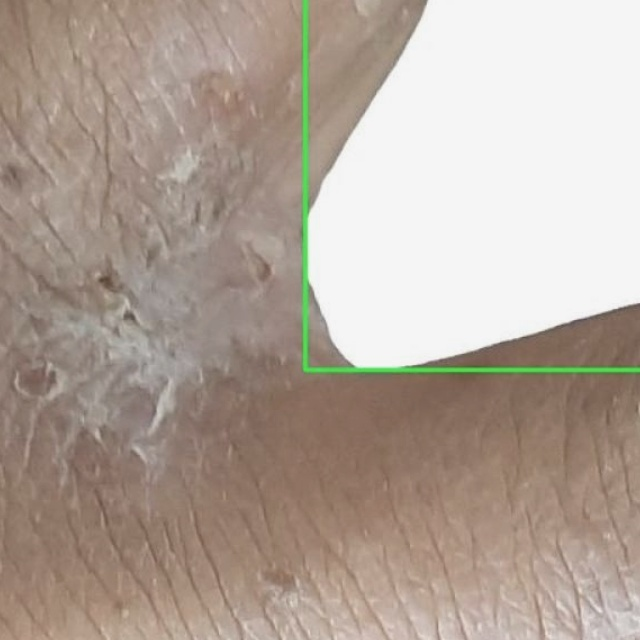Scabies: (305, 0, 639, 370)
